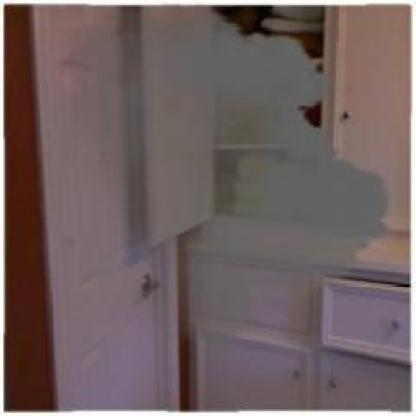Smoke: (42, 4, 403, 360)
